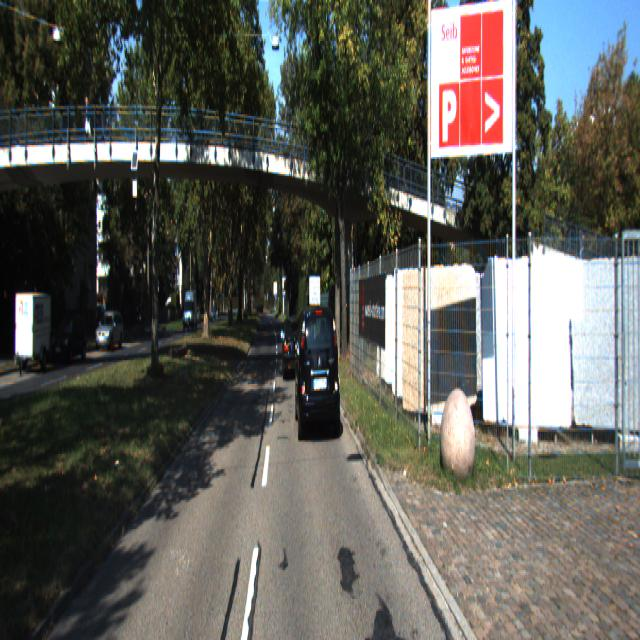Car: (293, 300, 341, 440), (281, 313, 304, 383), (93, 312, 123, 352), (183, 290, 198, 333)
